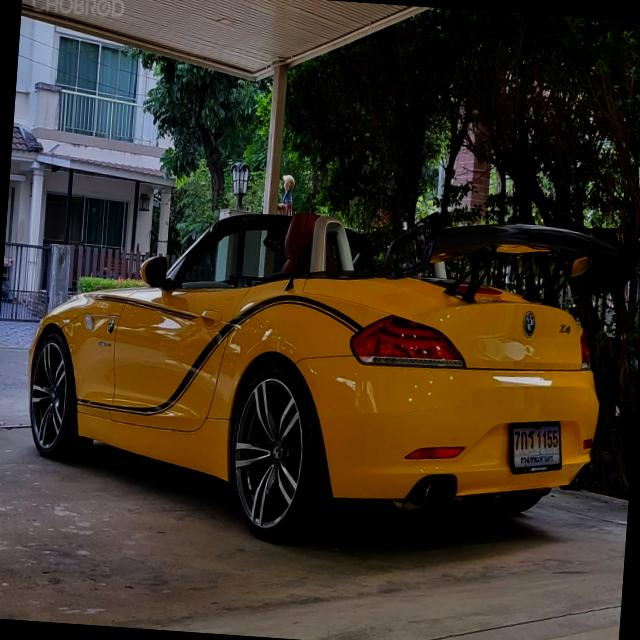license_plate: (504, 411, 570, 484)
